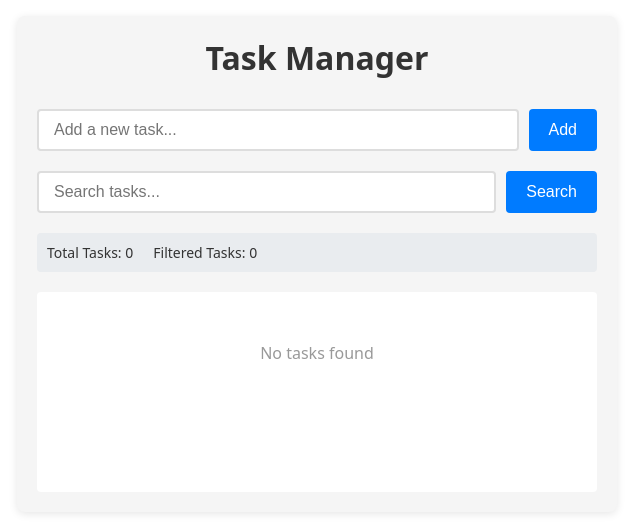
TaskManager Component › Add Task Functionality › should add multiple tasks
Type "Task 1" into the field with test id "task-input" at (278, 130), box [37,109,518,151]
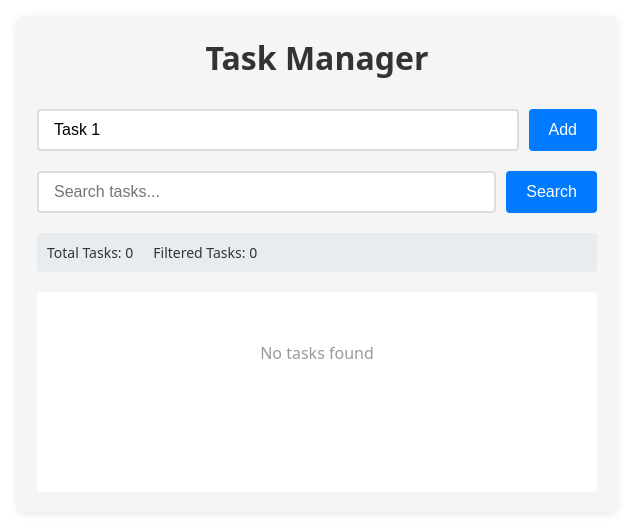
Click the button with test id "add-button" at (563, 130), box [528,109,597,151]
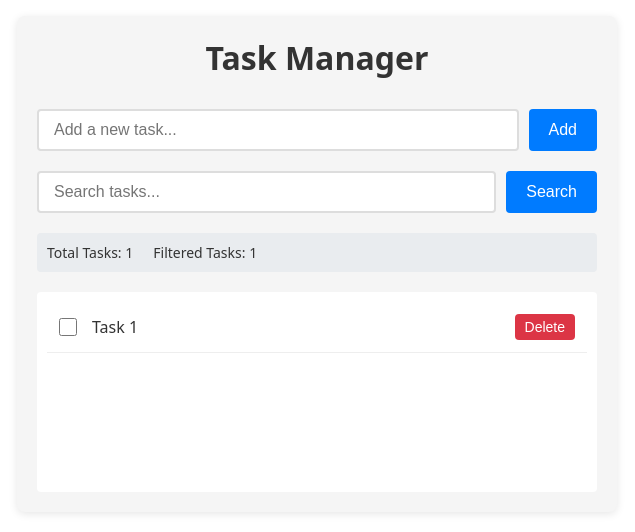
Type "Task 2" into the field with test id "task-input" at (278, 130), box [37,109,518,151]
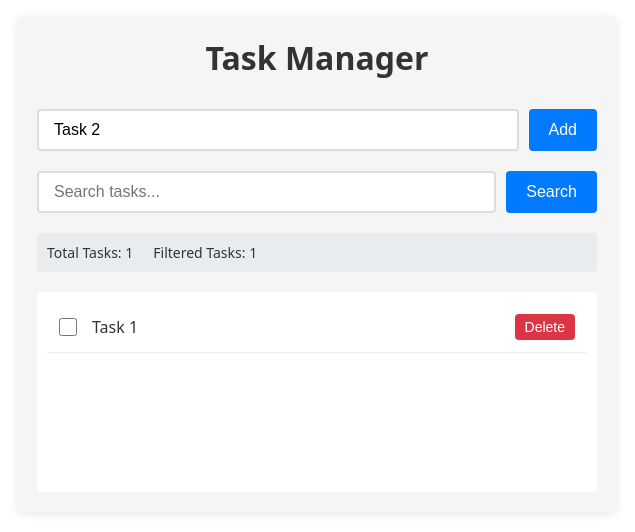
Click the button with test id "add-button" at (563, 130), box [528,109,597,151]
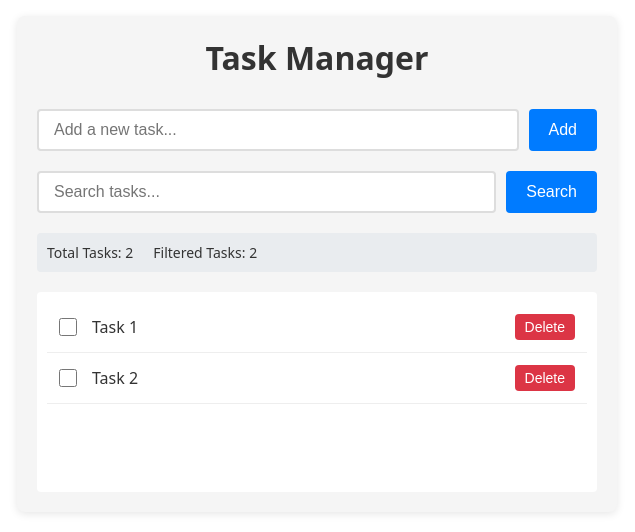
Type "Task 3" into the field with test id "task-input" at (278, 130), box [37,109,518,151]
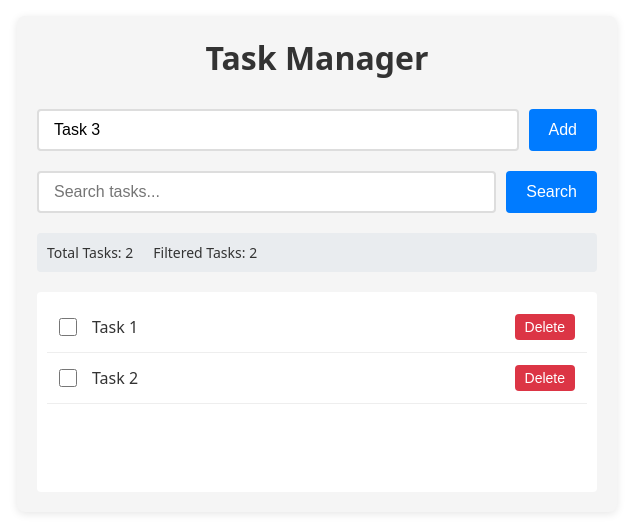
Click the button with test id "add-button" at (563, 130), box [528,109,597,151]
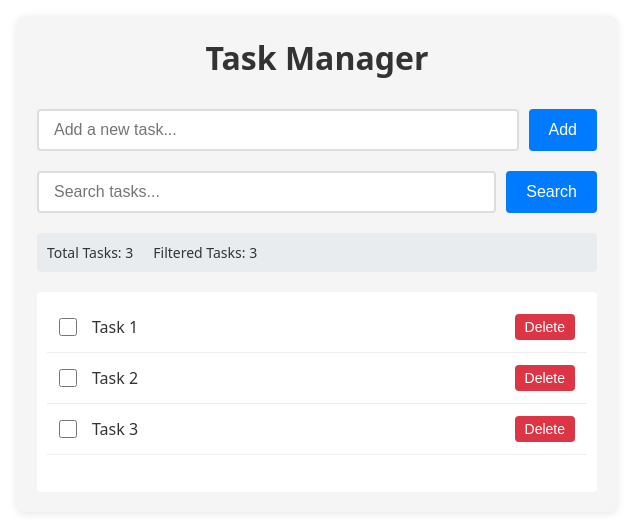
Expected: the text "Task 1" is shown, [92,316,138,338]
Expected: the text "Task 2" is shown, [92,367,138,389]
Expected: the text "Task 3" is shown, [92,418,138,440]
